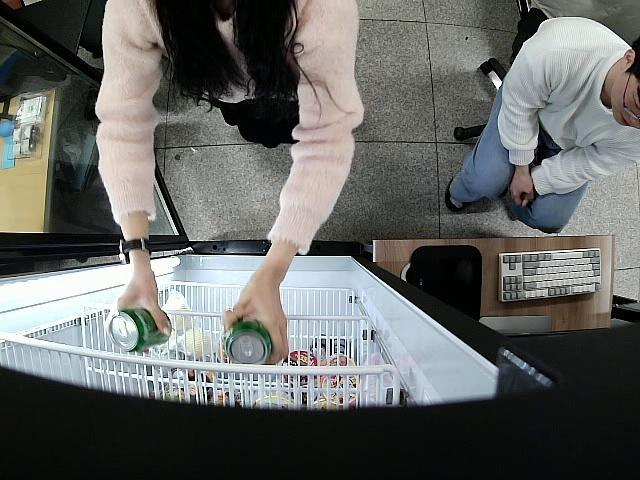12_chilsungCider: (104, 307, 172, 353), (222, 320, 274, 366)
